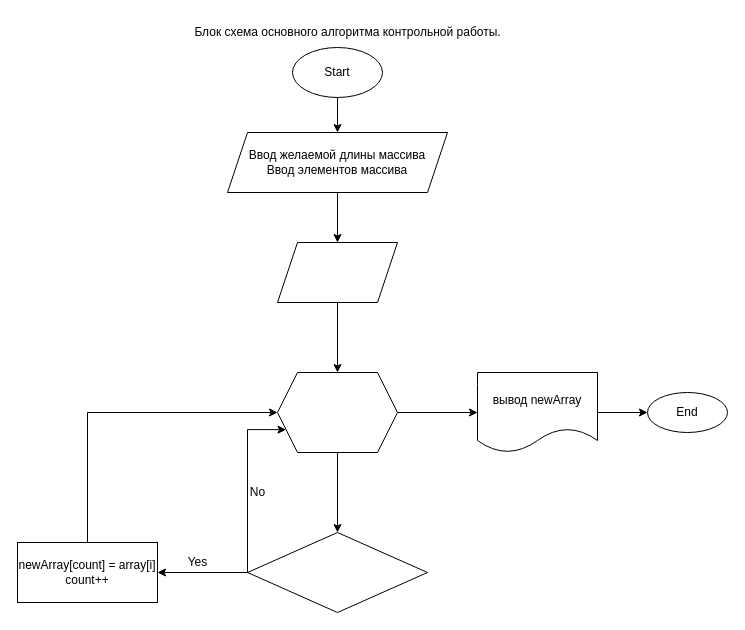
This 745x630 diagram has some shape labels left out. Here are the shapes that lost their labels. From the top down, the box of each, then its label:
(276, 242, 398, 302): string[] array string[] newArray int count = 0
(276, 372, 398, 452): for (int i = 0; i < array.Length; i++)
(246, 532, 428, 612): if (array[i].Length <= 3)
